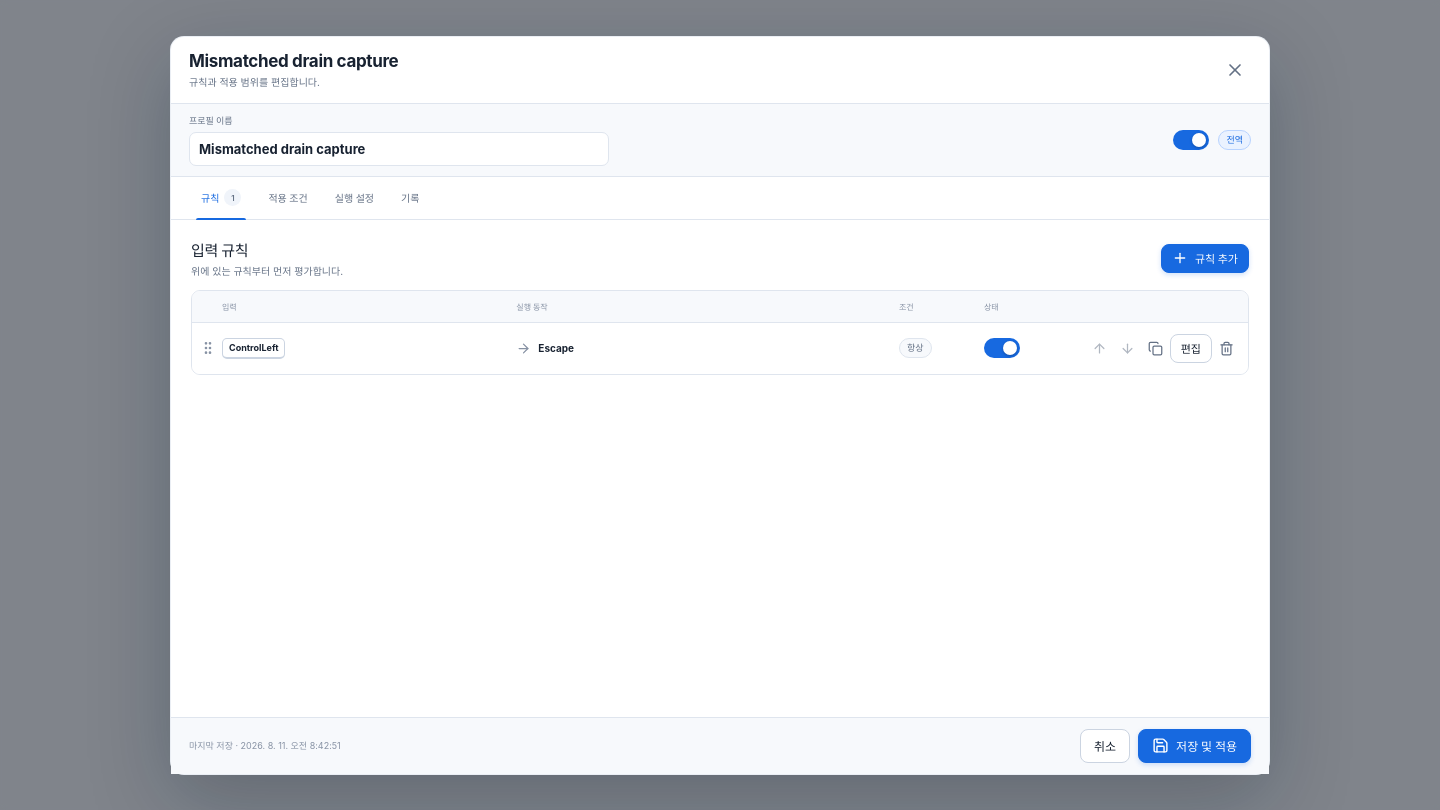
Test: ProfileEditor › ends the owned session and clears a partial chord when a drain reports another session
Click the button "편집" at (1191, 348), box [1170,334,1212,362]
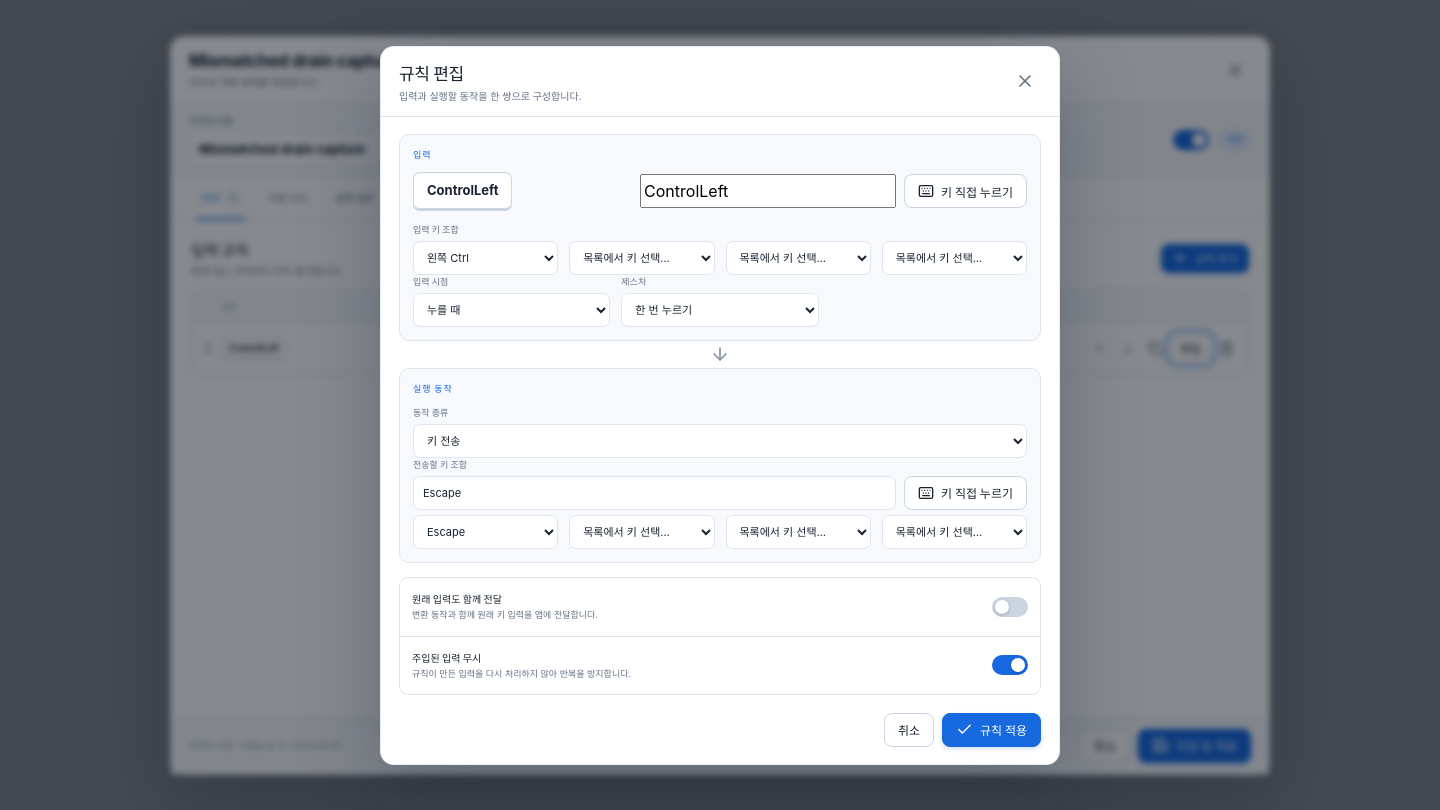
Click the button with aria-label "입력 키 직접 누르기" at (966, 191), box [904,174,1027,208]
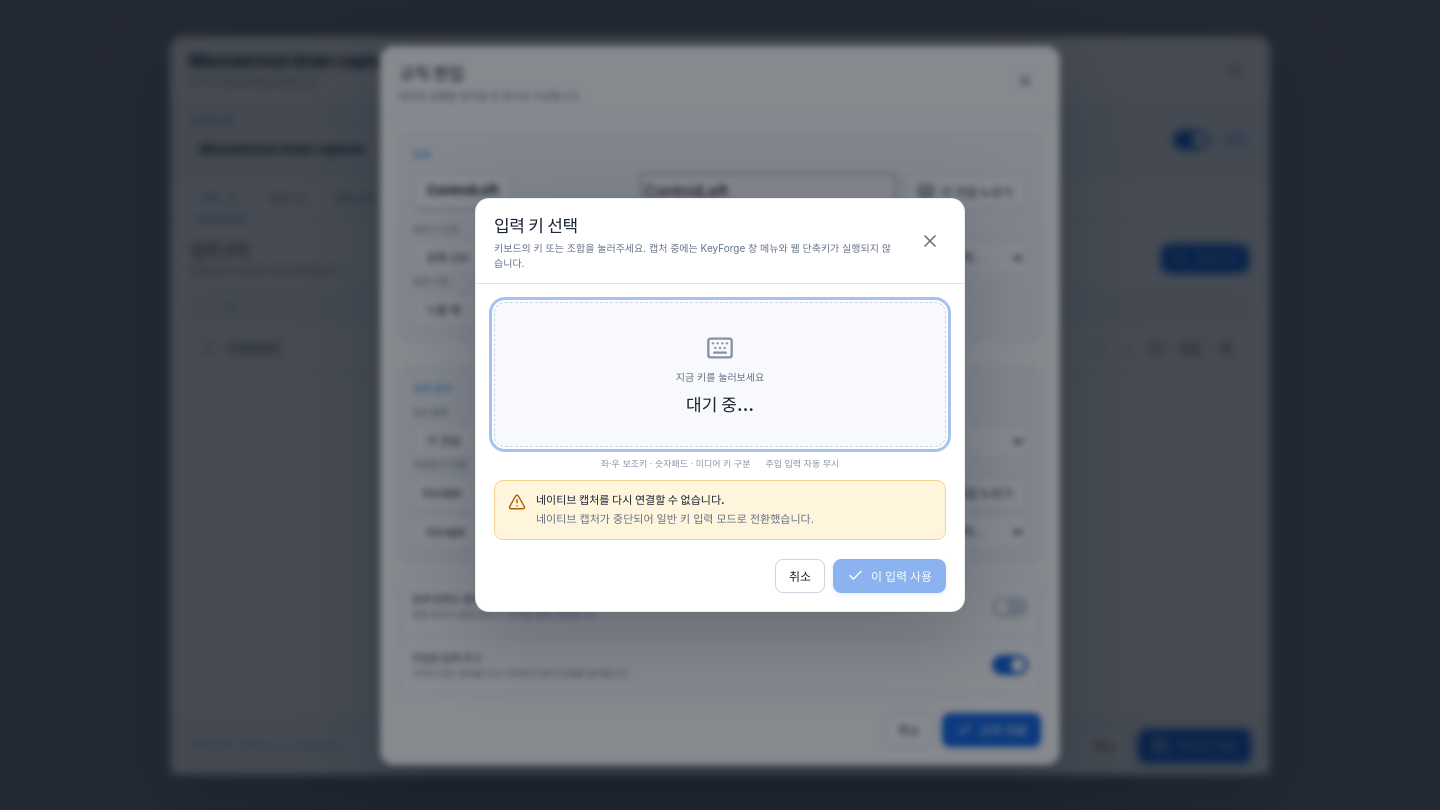
expect the text "대기 중…" is shown: met, box [686,391,754,416]
expect the button "이 입력 사용" is disabled: met, box [833,558,946,592]
